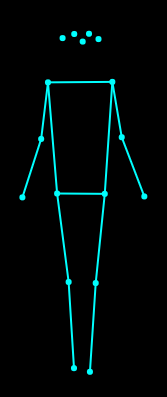mountain: (14, 23, 150, 379)
